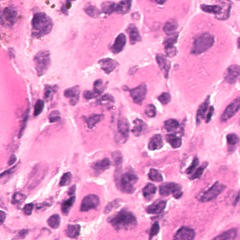New: (173, 12, 229, 106), (136, 1, 194, 27)
